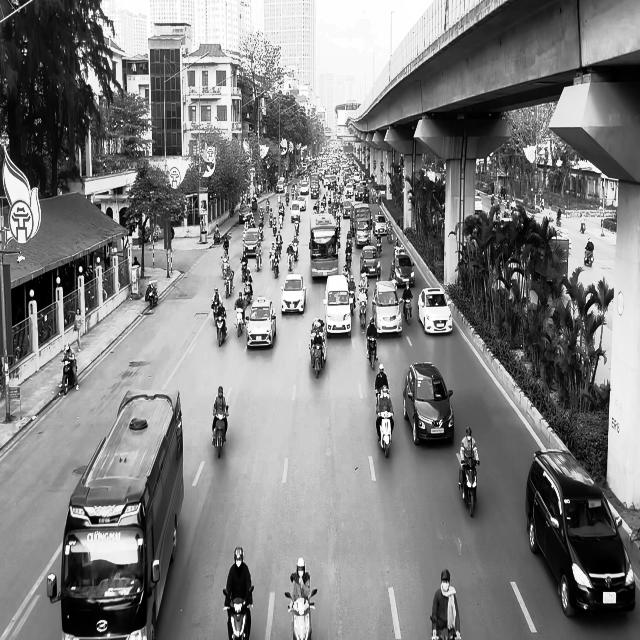bus: (309, 212, 339, 279)
car: (46, 388, 184, 640), (524, 448, 636, 618), (403, 362, 454, 446), (323, 274, 352, 338), (372, 280, 404, 336), (417, 286, 452, 335), (246, 296, 276, 349), (280, 272, 306, 314), (389, 252, 415, 287), (359, 246, 381, 278)
motorbike: (222, 586, 254, 640), (284, 589, 316, 639), (456, 452, 479, 518), (374, 386, 394, 457), (212, 407, 228, 458), (58, 357, 78, 396), (213, 308, 227, 347), (310, 341, 324, 378), (367, 335, 378, 370), (145, 280, 158, 308), (234, 306, 246, 336), (224, 270, 234, 298), (358, 299, 367, 328), (403, 296, 412, 324), (584, 245, 594, 266)
